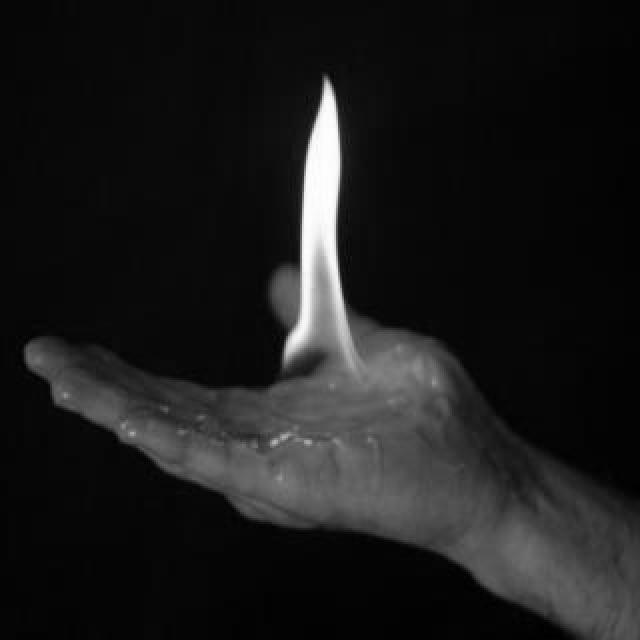Fire: (270, 58, 374, 410)
